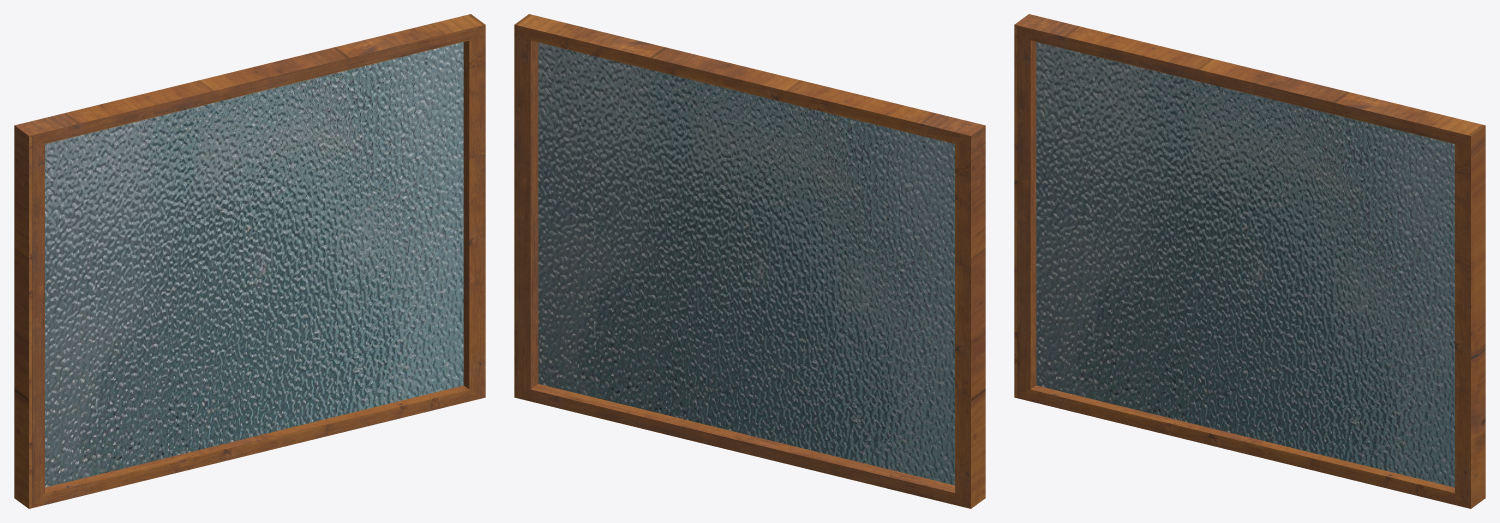
File: BigCabinetWindow.fbx
3 views of the same model, side by side, from view 1: azimuth 30°, elevation 25°; view 2: azimuth 150°, elevation 25°; view 3: azimuth 330°, elevation 25° (orthographic).
Visible parts, largest first — view 1: Cube.038; view 2: Cube.038; view 3: Cube.038.
Boxes of the visible parts, left/top/right/bottom form: Cube.038: left=14, top=14, right=485, bottom=508; Cube.038: left=514, top=14, right=985, bottom=508; Cube.038: left=1014, top=14, right=1485, bottom=508.
Bounding box in the file's own units: 572 × 447 × 31.65.
2 materials, 2 textured.
